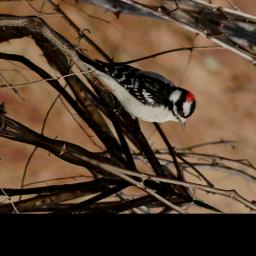Woodpecker: (58, 42, 202, 140)
